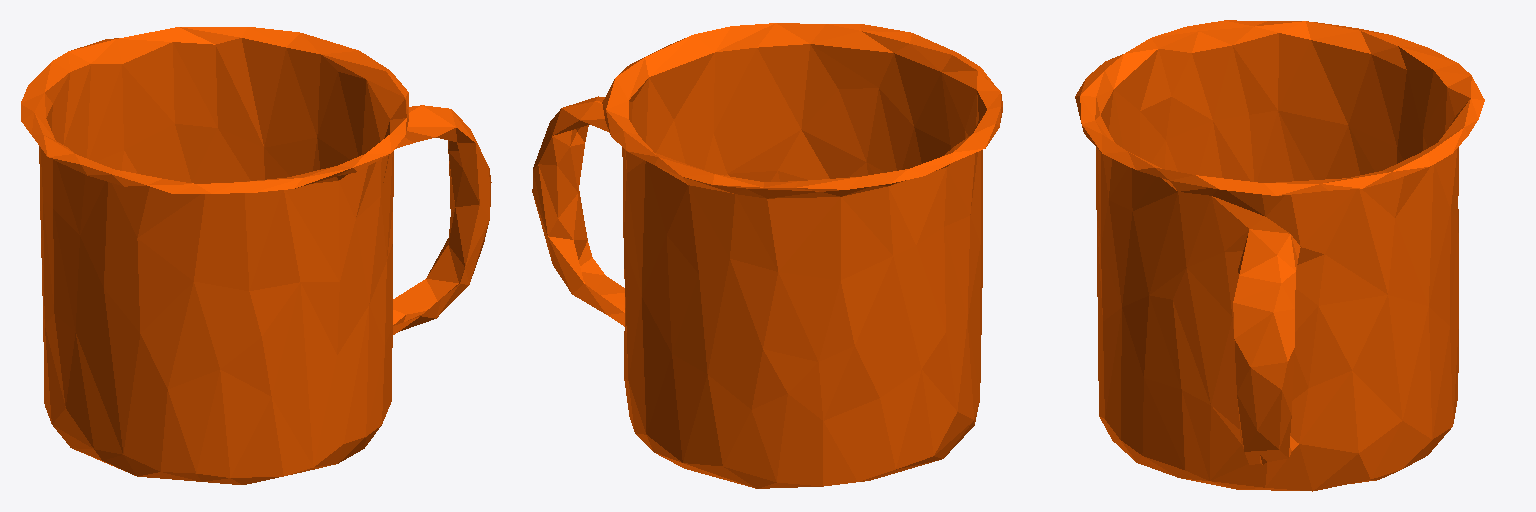
robot.urdf — 025_mug:
<?xml version="1.0" ?>
<robot name="025_mug">
   <material name="obj_color">
      <color rgba="1.0 0.423529411765 0.0392156862745 1.0"/>
   </material>
   <link name="top">
      <inertial>
         <origin rpy="0.0002086427640608826 0.0002357534493263532 0.0003065037560211022" xyz="-0.001928417825025347 -0.0001416476562534958 -0.01202481827706234"/>
         <mass value="0.24875"/>
         <inertia ixx="0.0002090447560400449" ixy="1.263578711465381e-06" ixz="-5.975043218725109e-06" iyy="0.0002360546382368468" iyz="-4.793472767035065e-06" izz="0.0003058005751314464"/>
      </inertial>
      <visual>
         <origin rpy="0 0 0" xyz="0 0 0"/>
         <geometry>
            <mesh filename="top_watertight_tiny.stl" scale="1 1 1"/>
         </geometry>
         <material name="obj_color"/>
      </visual>
      <collision>
         <origin rpy="0 0 0" xyz="0 0 0"/>
         <geometry>
            <mesh filename="top_watertight_tiny.obj" scale="1 1 1"/>
         </geometry>
      </collision>
   </link>
   <link name="bottom">
      <inertial>
         <origin rpy="1.633333333199431e-08 1.633333333199431e-08 1.633333333362855e-08" xyz="0.3464080000000008 0.3464080000000008 0.3464080000000008"/>
         <mass value="0.0009800000000000017"/>
         <inertia ixx="1.633333333253906e-08" ixy="5.447480642029219e-19" ixz="5.447480642029219e-19" iyy="1.633333333253906e-08" iyz="5.447480642029219e-19" izz="1.633333333253906e-08"/>
      </inertial>
      <visual>
         <origin rpy="0 0 0" xyz="0 0 0"/>
         <geometry>
            <mesh filename="bottom_watertight_tiny.stl" scale="1 1 1"/>
         </geometry>
         <material name="obj_color"/>
      </visual>
   </link>
   <joint name="rotation" type="revolute">
      <origin xyz="0 0 0"/>
      <axis xyz="0 0 -1"/>
      <parent link="bottom"/>
      <child link="top"/>
      <dynamics damping="1.0" friction="1.0"/>
      <limit effort="0.1" velocity="0.1" lower="0" upper="0.001"/>
   </joint>
</robot>

--- Facts derived from the render (not from the file) ---
The picture shows the robot from 3 angles, left to right: view 1: azimuth 30°, elevation 25°; view 2: azimuth 150°, elevation 25°; view 3: azimuth 270°, elevation 25°; orthographic projection.
Model 025_mug with 2 links and 1 joints (1 revolute), rooted at bottom, posed all joints at 0.
Visible links, largest first — view 1: top; view 2: top; view 3: top.
Link boxes in pixels (x1,y1,x2,y2): top: (21, 27, 491, 484); top: (532, 23, 1002, 488); top: (1075, 20, 1484, 491).
Size in the robot's own frame: 0.1173 by 0.0925 by 0.0812 metres.
Meshes: 2 distinct files referenced, 1 mesh visuals loaded (1 binary STL); not drawn: 1 (reference not matched to a file when rendering).